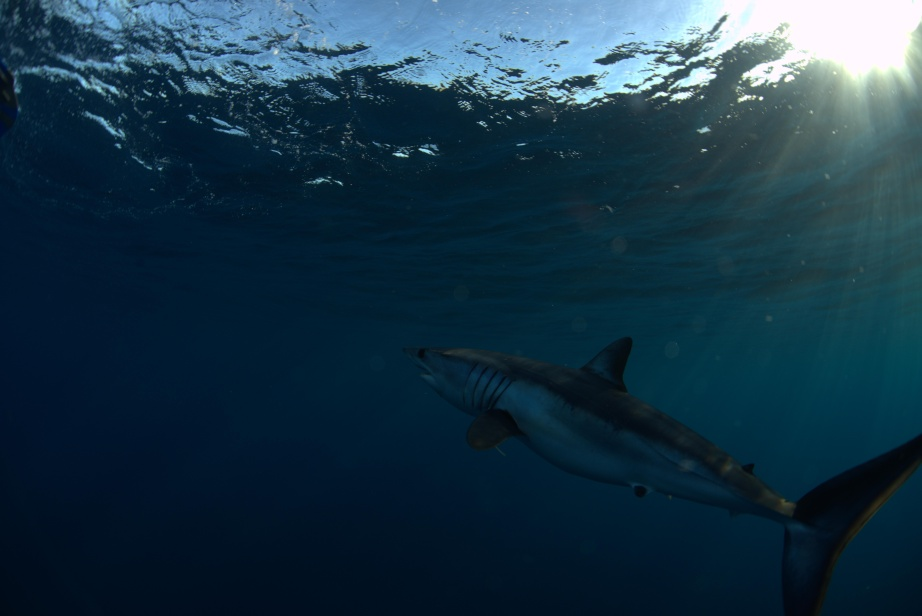Mako: (381, 331, 922, 615)
